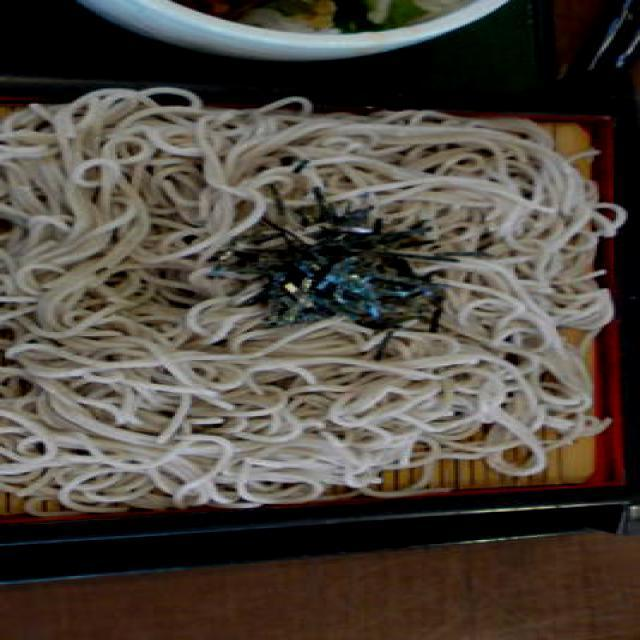soba-noodle: (21, 100, 612, 496)
